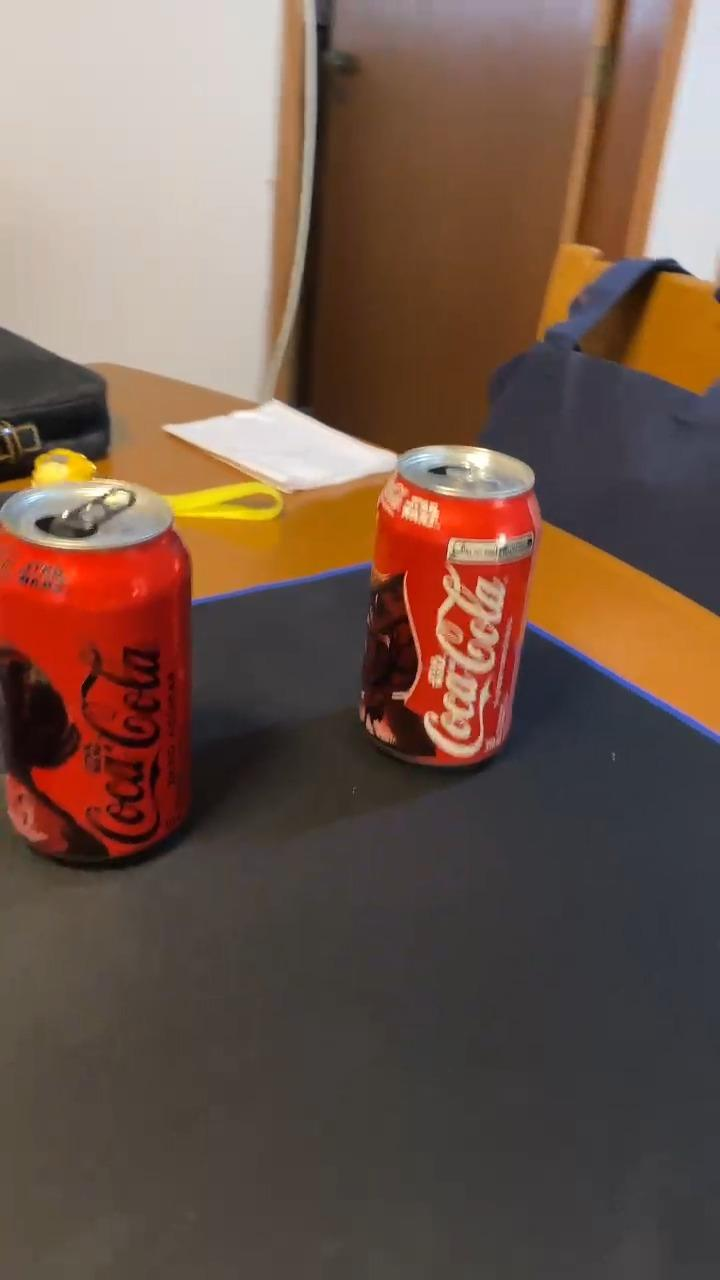coke: (0, 482, 193, 866), (359, 444, 542, 769)
